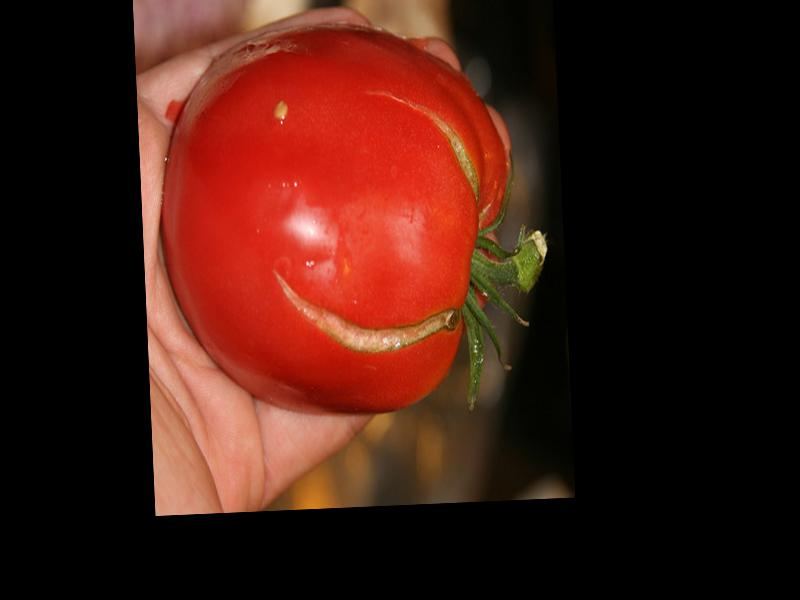Tomato: (153, 18, 517, 417)
